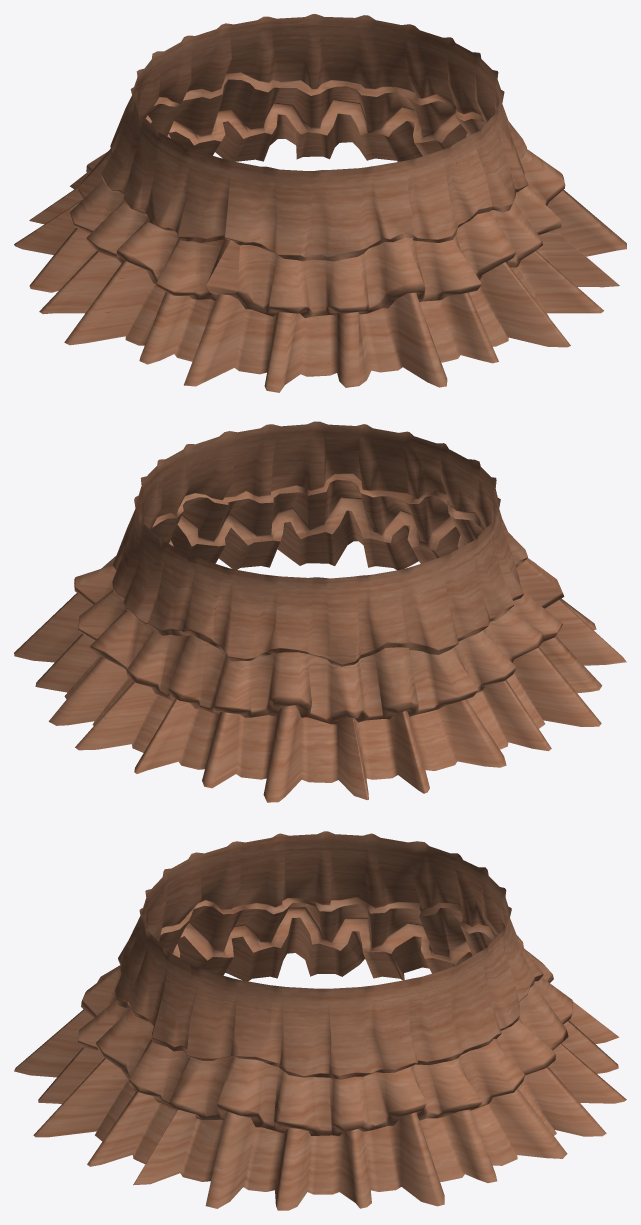
The model's file is Geonosis_Pillar01_Socket.fbx.
3 views of the same model, one above another, from view 1: azimuth 30°, elevation 25°; view 2: azimuth 150°, elevation 25°; view 3: azimuth 270°, elevation 25° (orthographic).
Visible parts, largest first — view 1: Geonosis_Pillar01_Socket; view 2: Geonosis_Pillar01_Socket; view 3: Geonosis_Pillar01_Socket.
Boxes of the visible parts, bbox=[...] form: Geonosis_Pillar01_Socket: bbox=[14, 14, 626, 392]; Geonosis_Pillar01_Socket: bbox=[14, 421, 626, 802]; Geonosis_Pillar01_Socket: bbox=[14, 831, 626, 1210].
Bounding box in the file's own units: 426 × 135 × 428.
